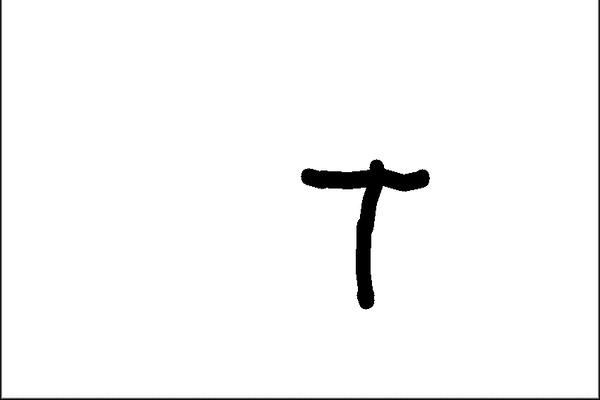T: (291, 153, 433, 319)
